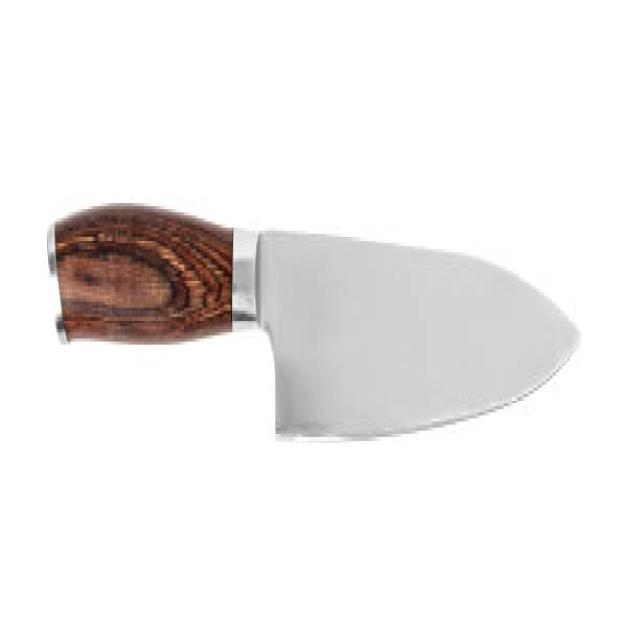knife: (43, 195, 587, 481)
